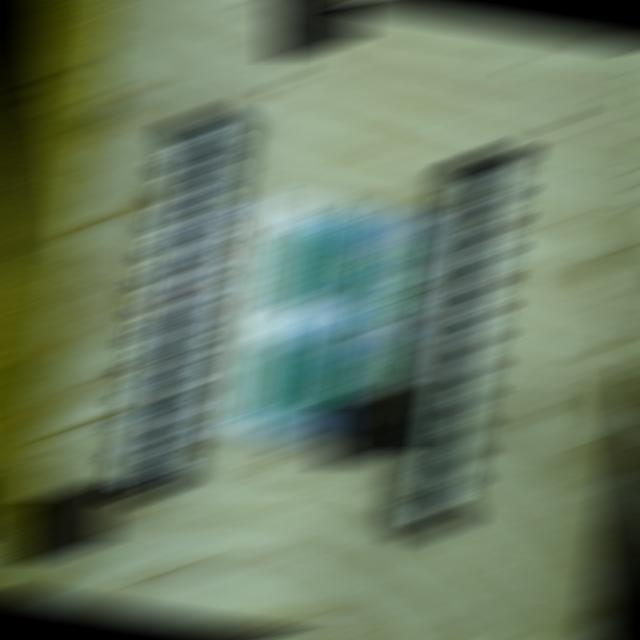Flathead_Block: (396, 149, 527, 536)
Phillips_Block: (105, 112, 237, 501)
Terminal_1: (357, 247, 406, 330), (340, 351, 388, 432)
Terminal_2: (292, 344, 340, 422), (288, 223, 336, 301), (269, 340, 316, 417), (311, 228, 358, 305), (246, 335, 292, 413)
